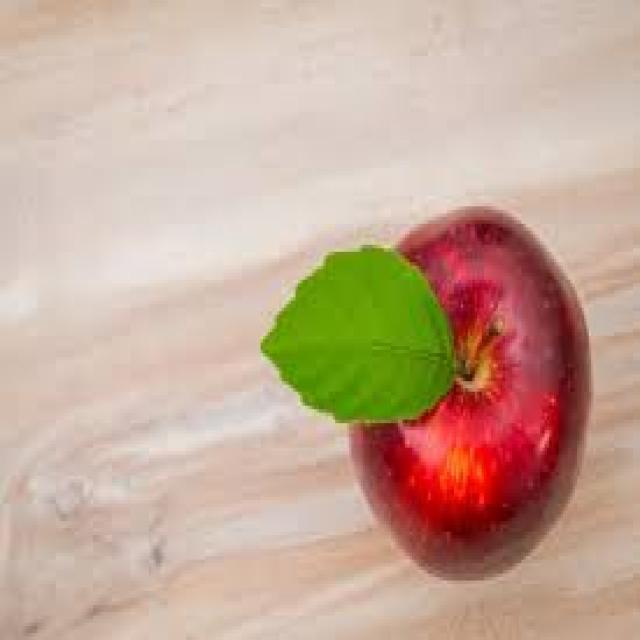non_orange: (302, 173, 603, 608)
